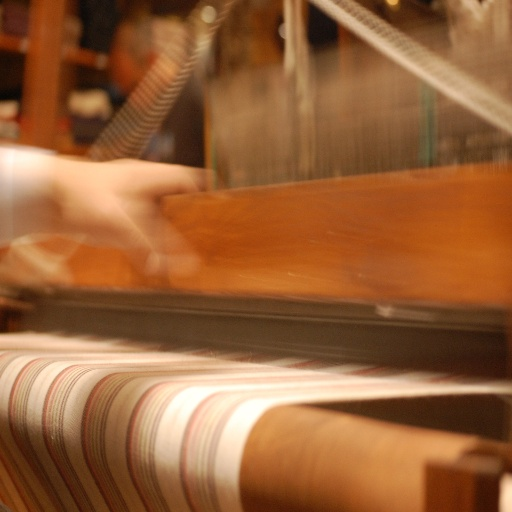hand: (53, 154, 200, 281)
